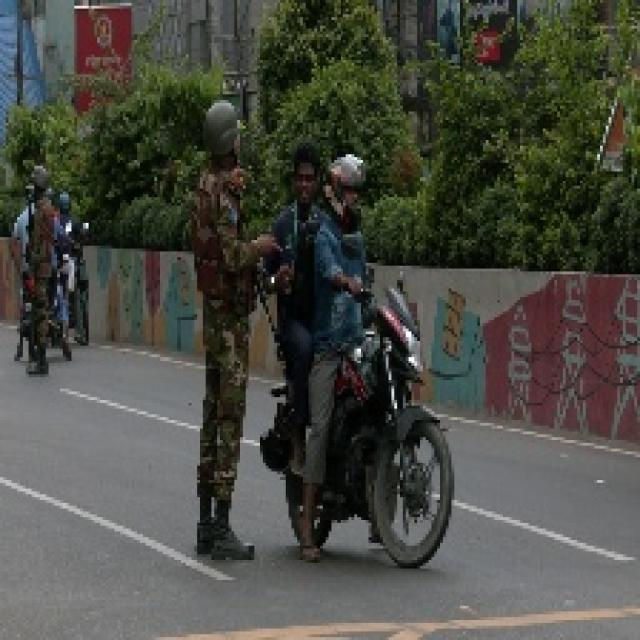bike: (273, 258, 437, 560)
